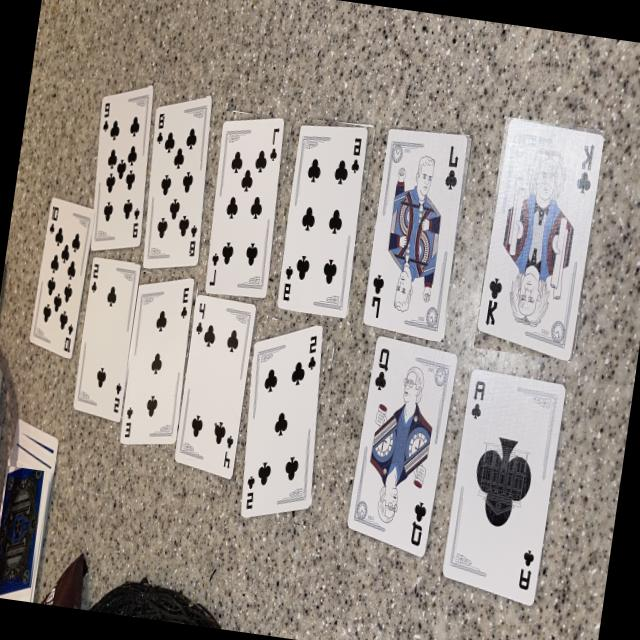10 of clubs: (30, 196, 94, 357)
2 of clubs: (74, 257, 141, 422)
3 of clubs: (121, 277, 195, 444)
4 of clubs: (175, 294, 256, 478)
5 of clubs: (242, 324, 325, 516)
6 of clubs: (279, 123, 370, 317)
7 of clubs: (207, 116, 286, 296)
8 of clubs: (144, 96, 212, 268)
9 of clubs: (91, 85, 154, 250)
Ace of clubs: (443, 369, 566, 605)
Jack of clubs: (365, 128, 468, 341)
King of clubs: (478, 118, 604, 359)
Queen of clubs: (348, 336, 457, 556)
card back: (0, 467, 46, 596)
